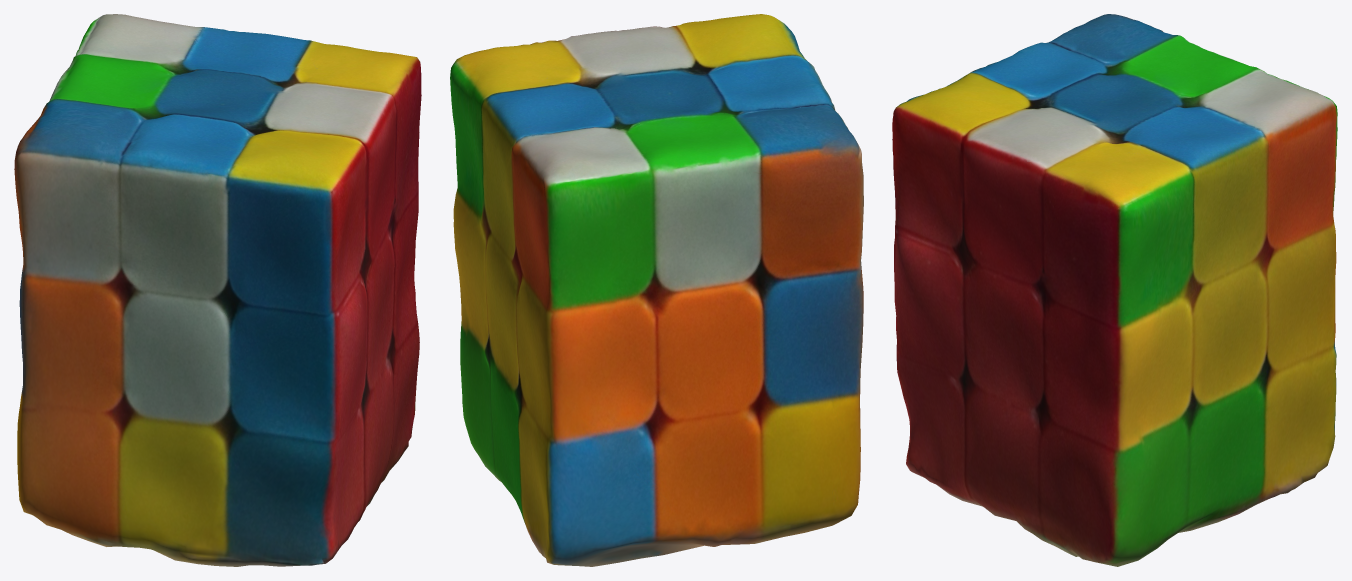
The model's file is blender.glb.
3 renders of one model, left to right at view 1: azimuth 30°, elevation 25°; view 2: azimuth 150°, elevation 25°; view 3: azimuth 270°, elevation 25°, orthographic. The views are drawn at different scales.
Visible parts, largest first — view 1: 3DModel; view 2: 3DModel; view 3: 3DModel.
Boxes of the visible parts, box(x1,y1,x2,y2) form: 3DModel: box(14, 14, 421, 566); 3DModel: box(450, 14, 863, 566); 3DModel: box(892, 14, 1337, 566).
Bounding box in the file's own units: 0.054 × 0.054 × 0.054.
1 material, 1 textured.
